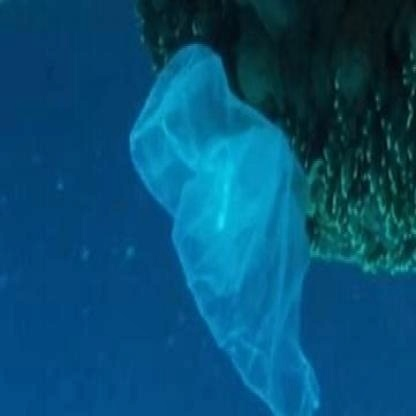plastic: (122, 56, 330, 393)
